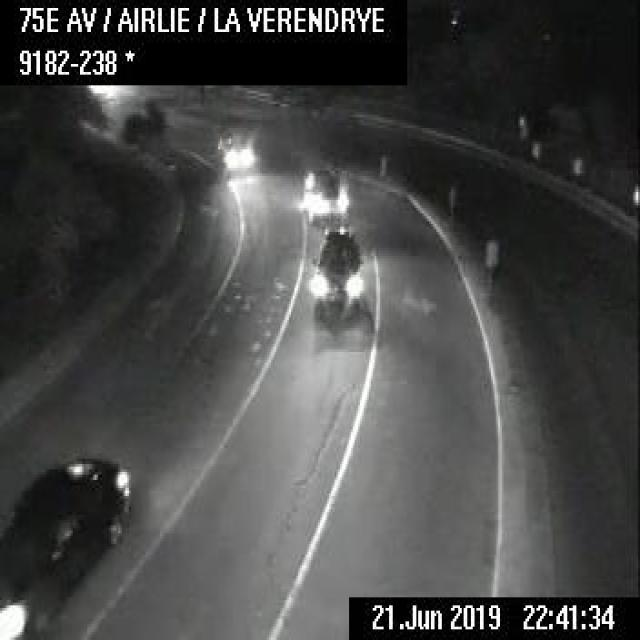vehicle: (0, 450, 127, 637), (311, 224, 365, 320), (302, 163, 344, 216), (218, 128, 260, 168)
